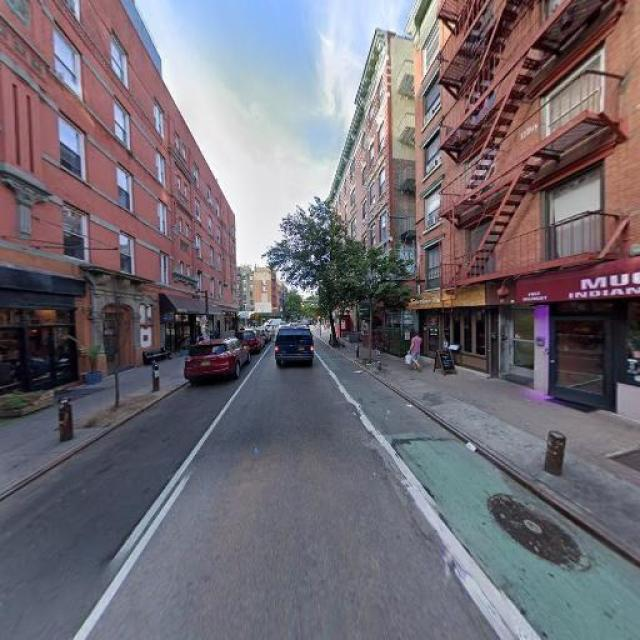Building: (1, 1, 233, 417), (417, 1, 640, 427)
